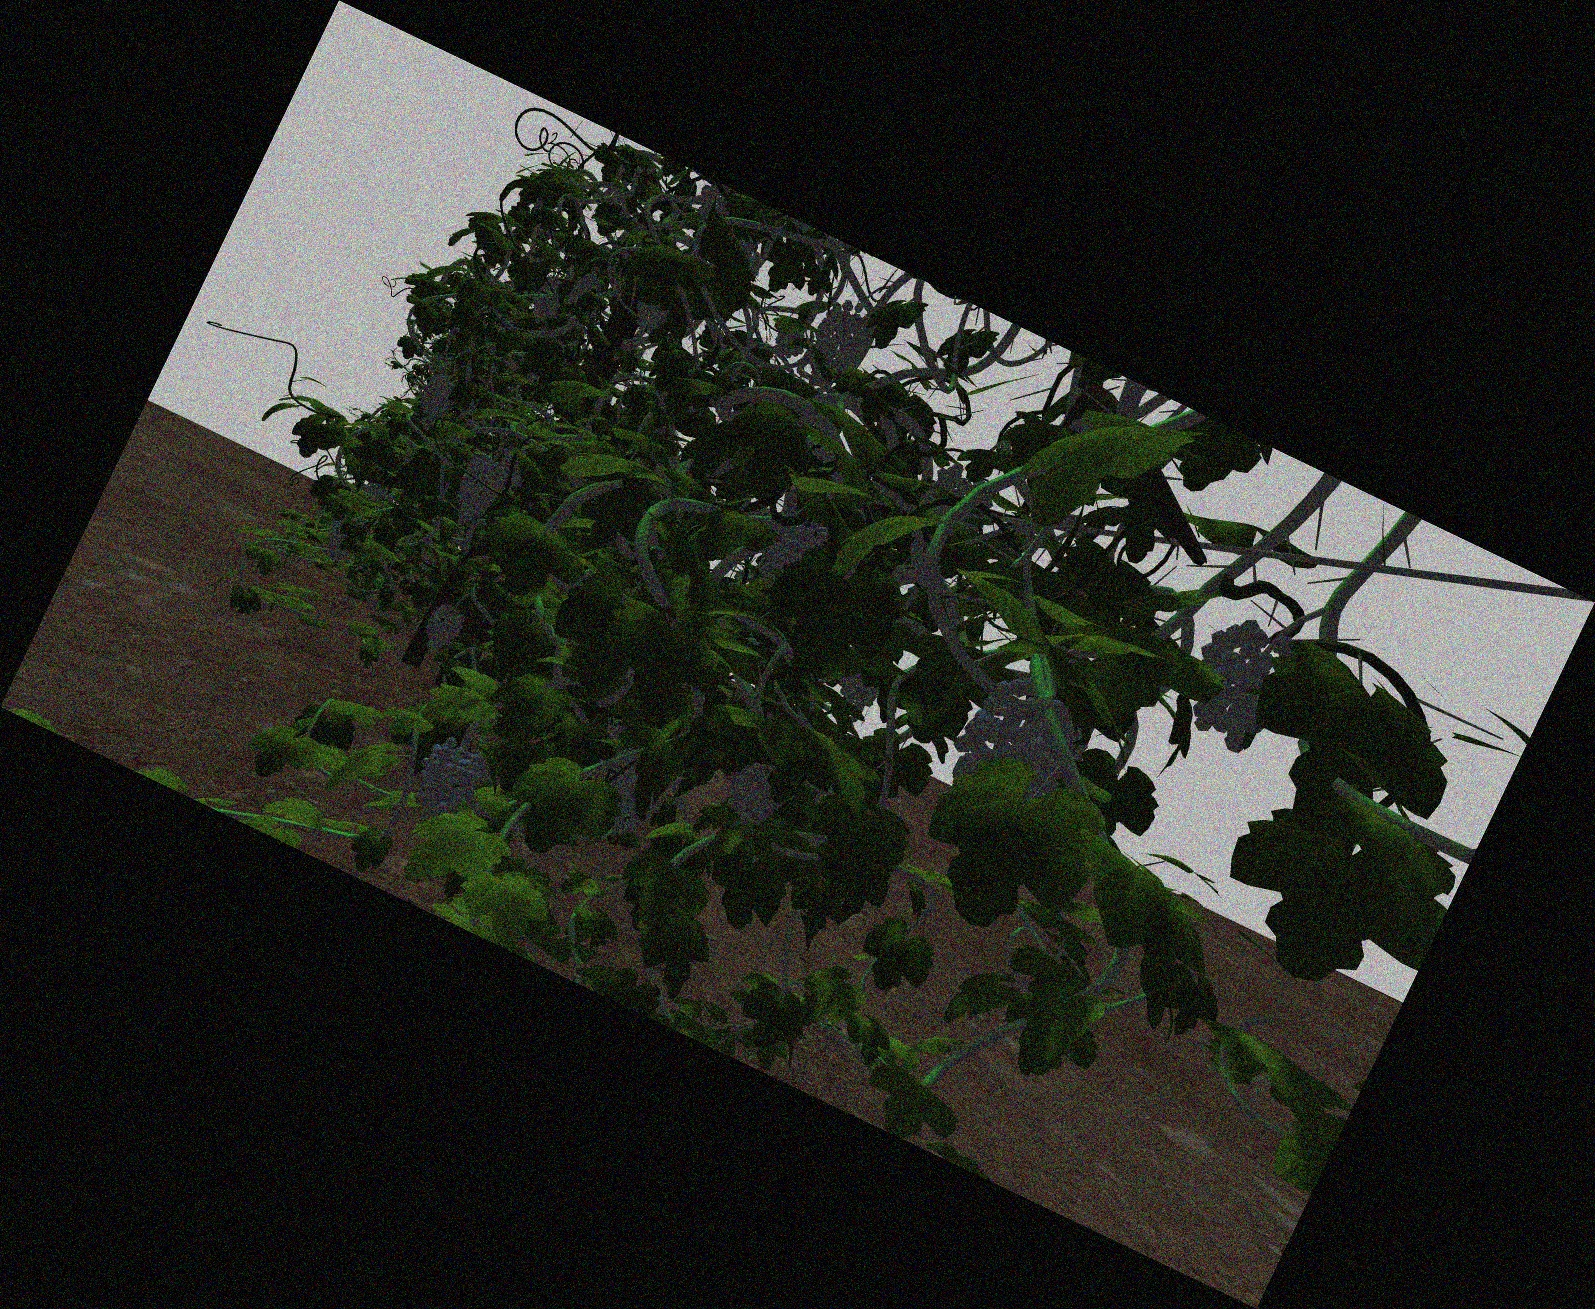grape: (968, 684, 1077, 798), (1196, 621, 1276, 741), (809, 303, 862, 393), (417, 743, 476, 821), (725, 763, 784, 825), (454, 460, 498, 535), (425, 604, 458, 656), (420, 374, 453, 423), (563, 260, 592, 306), (533, 277, 562, 322), (325, 519, 354, 560)
